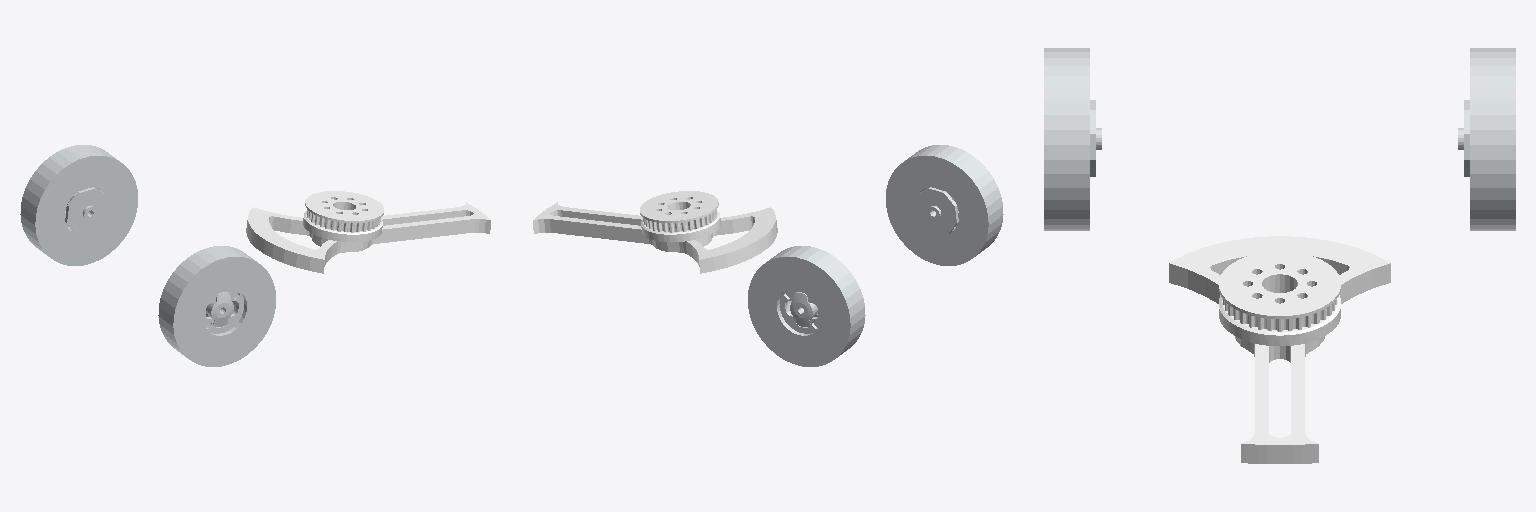
The robot description file, URDF, robot "generic_horiz_urdf":
<?xml version='1.0' encoding='utf-8'?>
<robot name="generic_horiz_urdf">
  <link name="base_link">
    <inertial>
      <origin xyz="-0.011539 -1.1761E-07 0.11059" rpy="0 0 0" />
      <mass value="45.499" />
      <inertia ixx="1.0261" ixy="7.9374E-05" ixz="0.17035" iyy="1.5202" iyz="-9.9035E-06" izz="2.3923" />
    </inertial>
    <visual>
      <origin xyz="0 0 0" rpy="0 0 0" />
      <geometry>
        <mesh filename="package://nemesis_gazebo/models/generic_horiz_urdf/meshes/base_link.STL" />
      </geometry>
      <material name="">
        <color rgba="0.89804 0.91765 0.92941 1" />
      </material>
    </visual>
    <collision>
      <origin xyz="0.1315 0 0.142" rpy="0 0 0" />
      <geometry>
        <box size="1.123 0.594 0.25" />
      </geometry>
    </collision>
  </link>
  <link name="r_link">
    <inertial>
      <origin xyz="3.704E-05 2.4209E-09 -0.0010402" rpy="0 0 0" />
      <mass value="13.413" />
      <inertia ixx="0.091558" ixy="2.876E-05" ixz="1.3243E-06" iyy="0.091484" iyz="7.8695E-11" izz="0.17006" />
    </inertial>
    <visual>
      <origin xyz="0 0 0" rpy="0 0 0" />
      <geometry>
        <mesh filename="package://nemesis_gazebo/models/generic_horiz_urdf/meshes/r_link.STL" />
      </geometry>
      <material name="">
        <color rgba="0.89804 0.91765 0.92941 1" />
      </material>
    </visual>
    <collision>
      <origin xyz="0 0 -0.01" rpy="0 0 0" />
      <geometry>
        <cylinder radius="0.152" length="0.09" />
      </geometry>
    </collision>
  </link>
  <joint name="r_joint" type="continuous">
    <origin xyz="0.048249 -0.35315 0.10289" rpy="1.5708 0.12203 0" />
    <parent link="base_link" />
    <child link="r_link" />
    <axis xyz="0 0 -1" />
    <limit effort="100" velocity="44" />
  </joint>
  <link name="l_link">
    <inertial>
      <origin xyz="6.5388E-06 -8.8061E-05 0.0010371" rpy="0 0 0" />
      <mass value="13.413" />
      <inertia ixx="0.091626" ixy="0.00022333" ixz="-0.0022903" iyy="0.092046" iyz="-0.0066178" izz="0.16943" />
    </inertial>
    <visual>
      <origin xyz="0 0 0" rpy="0 0 0" />
      <geometry>
        <mesh filename="package://nemesis_gazebo/models/generic_horiz_urdf/meshes/l_link.STL" />
      </geometry>
      <material name="">
        <color rgba="0.89804 0.91765 0.92941 1" />
      </material>
    </visual>
    <collision>
      <origin xyz="0 0 0" rpy="0 0 0" />
      <geometry>
        <cylinder radius="0.152" length="0.1" />
      </geometry>
    </collision>
  </link>
  <joint name="l_joint" type="continuous">
    <origin xyz="0.048249 0.35315 0.10289" rpy="1.4897 0.12198 0.029531" />
    <parent link="base_link" />
    <child link="l_link" />
    <axis xyz="0.029308 0.084574 -0.99599" />
    <limit effort="100" velocity="44" />
  </joint>
  <link name="spin_link">
    <inertial>
      <origin xyz="0 0 0" rpy="0 0 0" />
      <mass value="20" />
      <inertia ixx="0.2" ixy="0" ixz="0" iyy="0.5" iyz="0" izz="0.65" />
    </inertial>
    <visual>
      <origin xyz="0 0 0" rpy="0 0 0" />
      <geometry>
        <mesh filename="package://nemesis_gazebo/models/generic_horiz_urdf/meshes/spin_link.STL" />
      </geometry>
      <material name="">
        <color rgba="1 1 1 1" />
      </material>
    </visual>
    <collision>
      <origin xyz="0.084 0 0" rpy="0 0 0" />
      <geometry>
        <box size="0.654 0.1 0.06" />
      </geometry>
    </collision>
  </link>
  <joint name="spin_joint" type="continuous">
    <origin xyz="0.62299 0 0.060677" rpy="0 0.12203 0" />
    <parent link="base_link" />
    <child link="spin_link" />
    <axis xyz="0 0 1" />
    <limit effort="100" velocity="40000" />
  </joint>
  <!-- Joint controllers -->
  <gazebo>
    <plugin filename="gz-sim-pose-publisher-system" name="gz::sim::systems::PosePublisher">
      <publish_link_pose>false</publish_link_pose>
      <publish_visual_pose>false</publish_visual_pose>
      <publish_collision_pose>false</publish_collision_pose>
      <publish_sensor_pose>false</publish_sensor_pose>
      <publish_model_pose>true</publish_model_pose>
      <publish_nested_model_pose>true</publish_nested_model_pose>
      <use_pose_vector_msg>false</use_pose_vector_msg>
      <static_publisher>false</static_publisher>
      <update_frequency>200</update_frequency>
    </plugin>
    <plugin filename="gz-sim-joint-controller-system" name="gz::sim::systems::JointController">
      <joint_name>l_joint</joint_name>
      <topic>/opponent/left_wheels/cmd_vel</topic>
    </plugin>
    <plugin filename="gz-sim-joint-controller-system" name="gz::sim::systems::JointController">
      <joint_name>r_joint</joint_name>
      <topic>/opponent/right_wheels/cmd_vel</topic>
    </plugin>
    <plugin filename="gz-sim-joint-controller-system" name="gz::sim::systems::JointController">
      <joint_name>spin_joint</joint_name>
      <topic>/opponent/weapon_motor/cmd_vel</topic>
    </plugin>
  </gazebo>
  <gazebo reference="base_link">
    <mu1>0.3</mu1>
    <mu2>0.3</mu2>
  </gazebo>
  <gazebo reference="r_link">
    <mu1>1</mu1>
    <mu2>1</mu2>
  </gazebo>
  <gazebo reference="l_link">
    <mu1>1</mu1>
    <mu2>1</mu2>
  </gazebo>
  <gazebo reference="spin_link">
    <mu1>0.3</mu1>
    <mu2>0.3</mu2>
  </gazebo>
</robot>

--- What the picture shows (computed from the rendered views, not written in the file) ---
The picture shows the robot from 3 angles, left to right: view 1: azimuth 30°, elevation 25°; view 2: azimuth 150°, elevation 25°; view 3: azimuth 270°, elevation 25°; orthographic projection.
Robot: generic_horiz_urdf — 4 links, 3 joints (3 continuous); root link base_link; default pose: every joint at zero.
Links seen in each view (by area): view 1: l_link, r_link, spin_link; view 2: r_link, l_link, spin_link; view 3: spin_link, r_link, l_link.
Boxes of the visible links, <box> form: l_link: <box>20,145,137,265</box>; r_link: <box>158,246,275,366</box>; spin_link: <box>246,191,490,273</box>; r_link: <box>886,145,1003,265</box>; l_link: <box>748,246,865,366</box>; spin_link: <box>533,191,777,273</box>; spin_link: <box>1169,236,1390,463</box>; r_link: <box>1044,48,1101,230</box>; l_link: <box>1458,48,1515,230</box>.
Size in the robot's own frame: 1.13 by 0.7825 by 0.3046 metres.
3 mesh visuals loaded from 4 distinct referenced files (3 binary STL); not drawn: 1 (reference not matched to a file when rendering).
